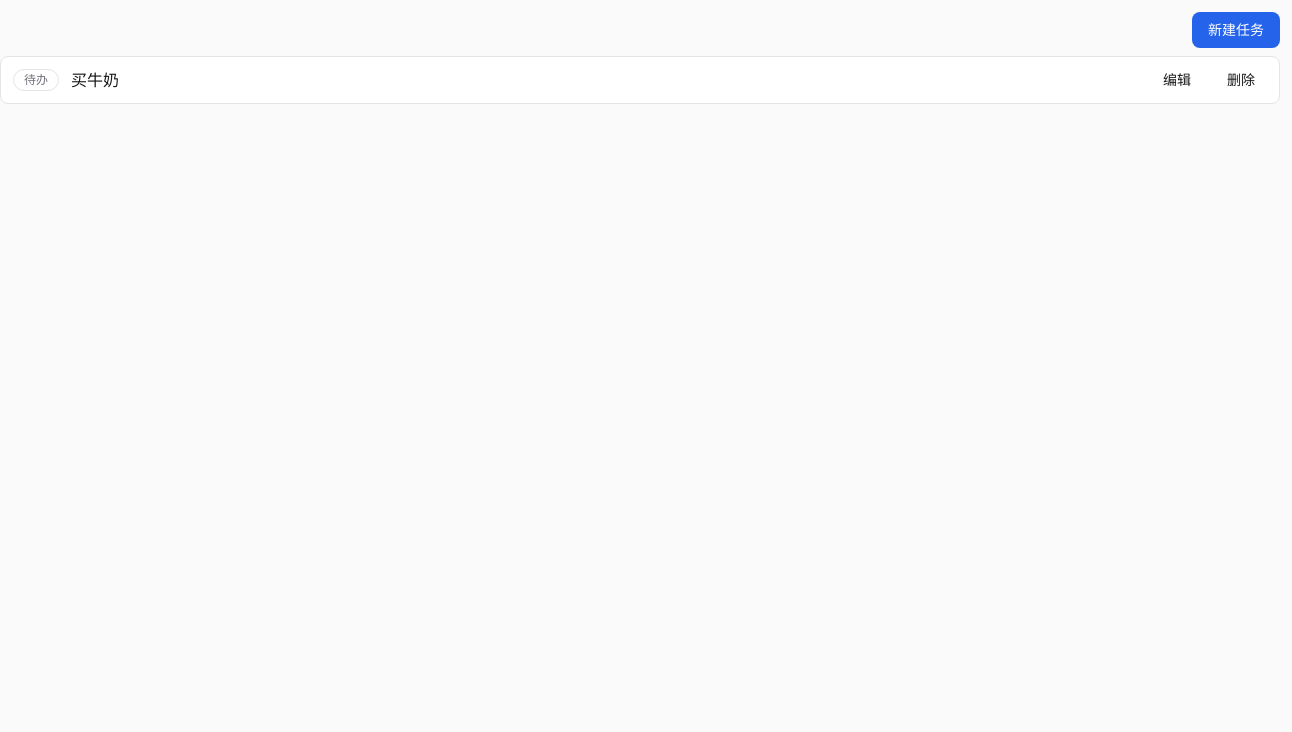
Scenario: ListView CRUD flows (S1/S4/S5) › set_task_status not_found surfaces the generic toast (spec US5-4)
This screenshot has width=1292, height=732.
Step 1. Click the button "待办" → [36, 80], box top-left (13, 69), bottom-right (59, 91)
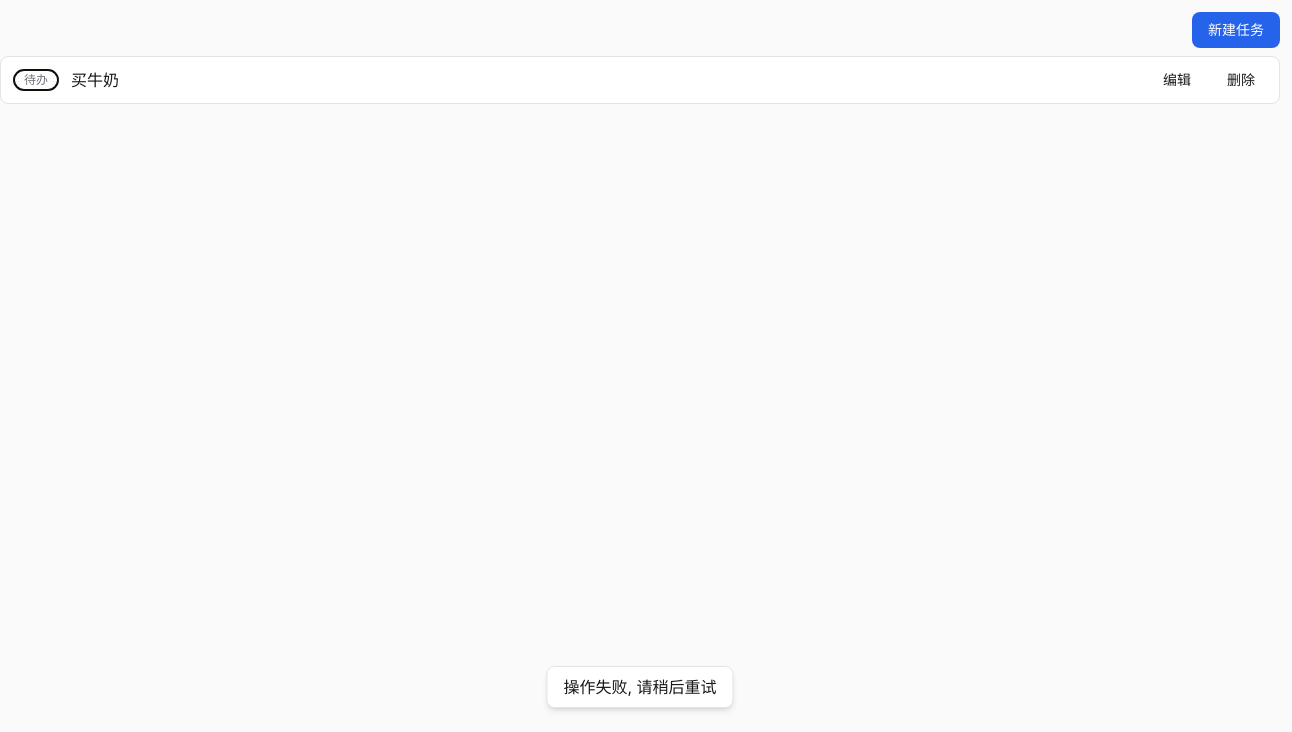
Check: the message shows "操作失败", box top-left (563, 677), bottom-right (716, 697)
